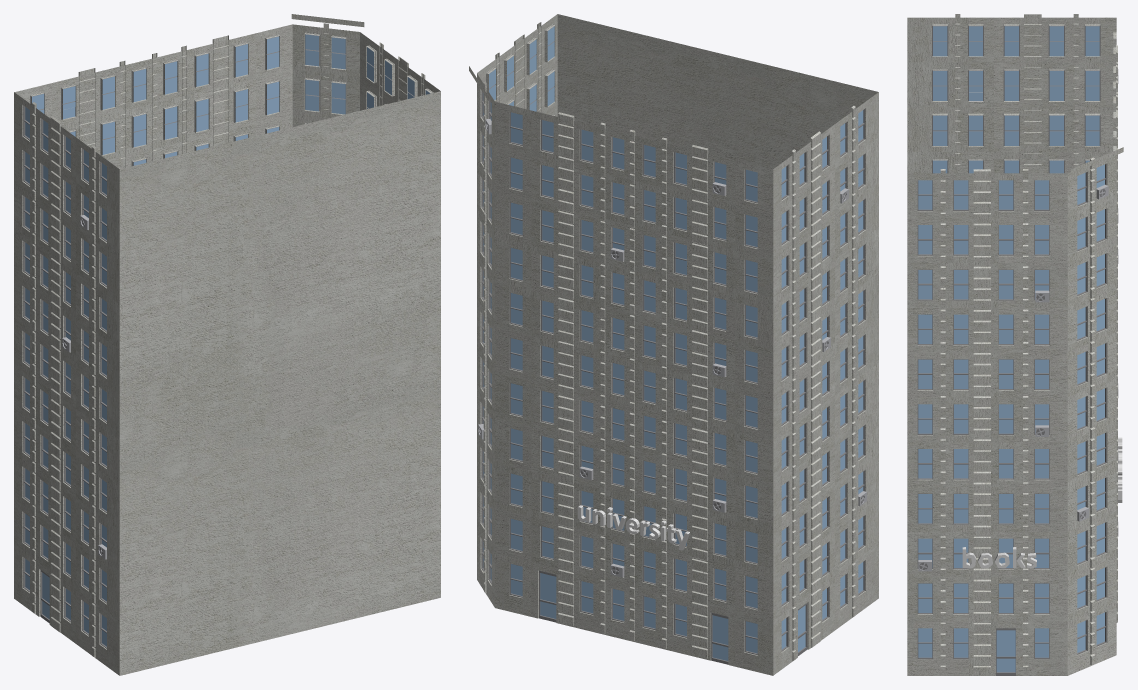
Rendered from cityscene2_05.gltf.
3 views of the same model, side by side, from view 1: azimuth 30°, elevation 25°; view 2: azimuth 150°, elevation 25°; view 3: azimuth 270°, elevation 25° (orthographic).
Parts seen in each view (by area): view 1: cityscene2_05; view 2: cityscene2_05; view 3: cityscene2_05.
Boxes of the visible parts, bbox=[...] form: cityscene2_05: bbox=[14, 14, 440, 675]; cityscene2_05: bbox=[469, 14, 878, 675]; cityscene2_05: bbox=[907, 14, 1123, 675].
Size of the model in its own units: 11.34 by 16.95 by 6.52.
5 materials, 1 textured.
